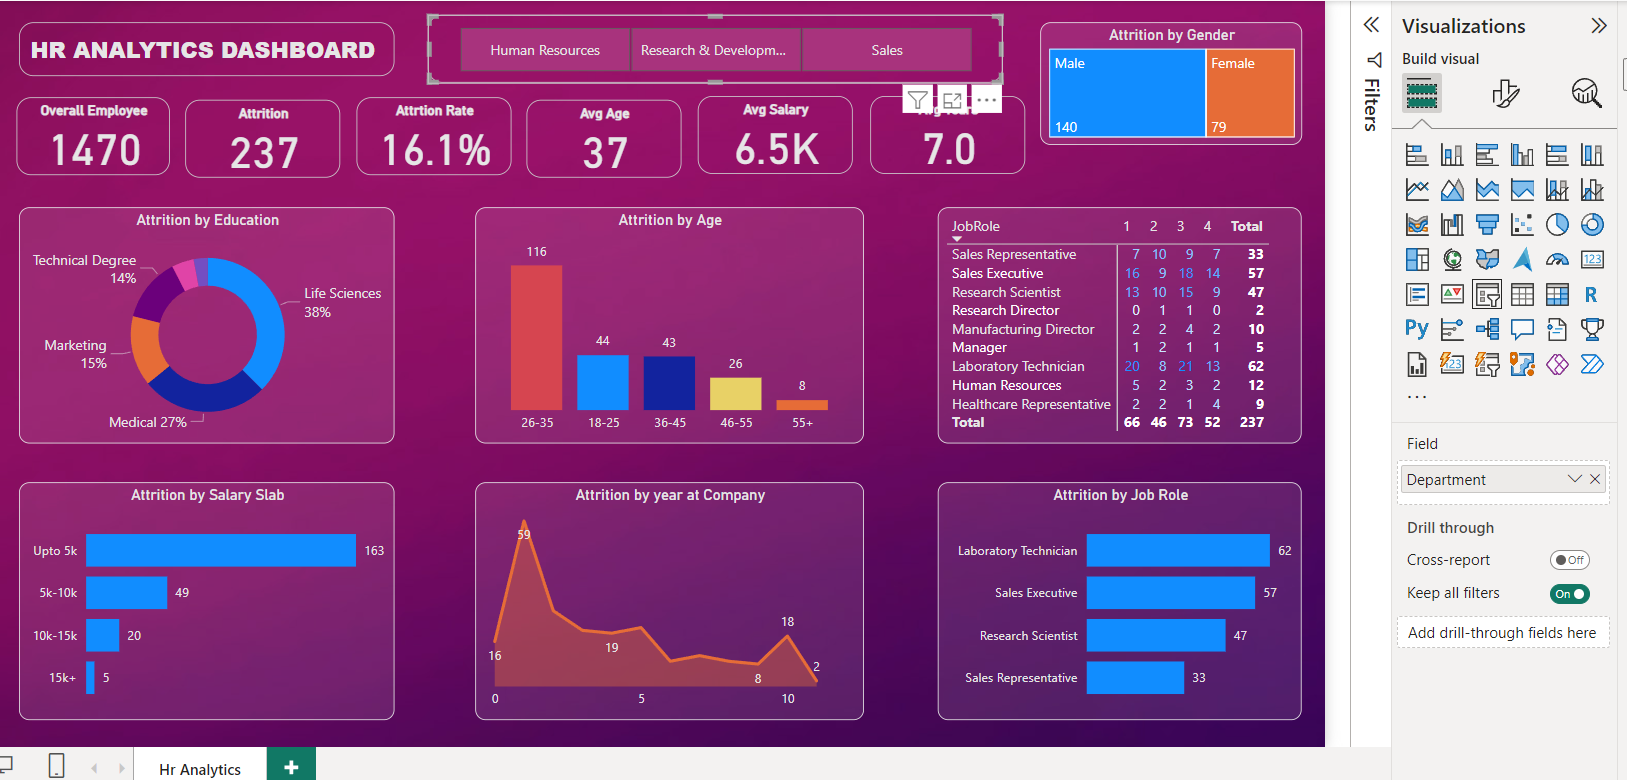

What the dashboard file says about the page in this screenshot:
{"tool":"powerbi","page":{"name":"Hr Analytics ","canvas":[1280,720],"ordinal":0},"visuals":[{"type":"card","title":"Overall Employee","fields":{"Values":["Sum(HR_Analytics (2).EmployeeCount)"]},"box":[16.5,93.4,148.3,75.5],"z":0},{"type":"card","title":"Attrtion Rate","fields":{"Values":["HR_Analytics.AttritionRate"]},"box":[344.7,93.4,149.7,75.5],"z":1000},{"type":"card","title":"Avg Age","fields":{"Values":["Avg(HR_Analytics.Age)"]},"box":[509.5,94.8,149.7,75.5],"z":2000},{"type":"card","title":"Avg Salary","fields":{"Values":["Avg(HR_Analytics.MonthlyIncome)"]},"box":[674.3,92,149.7,75.5],"z":3000},{"type":"card","title":"Avg Years","fields":{"Values":["Avg(HR_Analytics.YearsAtCompany)"]},"box":[840.5,92,149.7,75.5],"z":4000},{"type":"card","title":"Attrition","fields":{"Values":["Sum(HR_Analytics (2).Attritioncount)"]},"box":[179.9,94.8,149.7,75.5],"z":5000},{"type":"donutChart","title":"Attrition by Education","fields":{"Category":["HR_Analytics.EducationField"],"Y":["Sum(HR_Analytics.Attritioncount)"]},"box":[19.2,199.1,362.6,228],"z":6000},{"type":"columnChart","title":"Attrition by Age","fields":{"Category":["HR_Analytics.AgeGroup"],"Y":["Sum(HR_Analytics.Attritioncount)"]},"box":[460.1,199.1,374.9,228],"z":7000},{"type":"pivotTable","title":"Job Satisfaction","fields":{"Rows":["HR_Analytics.JobRole"],"Columns":["HR_Analytics.JobSatisfaction"],"Values":["Sum(HR_Analytics.Attritioncount)"]},"box":[906.4,199.1,351.6,228],"z":8000},{"type":"barChart","title":"Attrition by Salary Slab","fields":{"Category":["HR_Analytics.SalarySlab"],"Y":["Sum(HR_Analytics.Attritioncount)"]},"box":[19.2,464.2,362.6,229.4],"z":9000},{"type":"barChart","title":"Attrition by Job Role","fields":{"Category":["HR_Analytics.JobRole"],"Y":["Sum(HR_Analytics.Attritioncount)"]},"box":[906.4,464.2,351.6,229.4],"z":10000},{"type":"areaChart","title":"Attrition by year at Company ","fields":{"Category":["HR_Analytics.YearsAtCompany"],"Y":["Sum(HR_Analytics.Attritioncount)"]},"box":[460.1,464.2,374.9,229.4],"z":11000},{"type":"treemap","title":"Attrition by Gender","fields":{"Group":["HR_Analytics.Gender"],"Values":["Sum(HR_Analytics.Attritioncount)"]},"box":[1005.3,20.6,252.7,118.1],"z":12000},{"type":"textbox","box":[19.2,20.6,362.6,52.2],"z":13000},{"type":"slicer","fields":{"Values":["HR_Analytics.Department"]},"box":[413.4,13.7,554.8,65.9],"z":14000}]}

Visuals, with their boxes in screenshot pixels (x1, y1, x2, y2):
"Overall Employee" card: bbox=[0, 78, 110, 162]
"Attrtion Rate" card: bbox=[310, 78, 475, 162]
"Avg Age" card: bbox=[492, 80, 658, 163]
"Avg Salary" card: bbox=[674, 76, 840, 160]
"Avg Years" card: bbox=[858, 76, 1024, 160]
"Attrition" card: bbox=[127, 80, 293, 163]
"Attrition by Education" donutChart: bbox=[0, 195, 351, 447]
"Attrition by Age" columnChart: bbox=[437, 195, 852, 447]
"Job Satisfaction" pivotTable: bbox=[931, 195, 1321, 447]
"Attrition by Salary Slab" barChart: bbox=[0, 488, 351, 742]
"Attrition by Job Role" barChart: bbox=[931, 488, 1321, 742]
"Attrition by year at Company " areaChart: bbox=[437, 488, 852, 742]
"Attrition by Gender" treemap: bbox=[1041, 0, 1321, 128]
textbox: bbox=[0, 0, 351, 55]
slicer - HR_Analytics.Department: bbox=[386, 0, 1000, 63]
